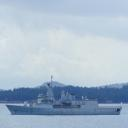Fragata: (6, 73, 124, 118)
